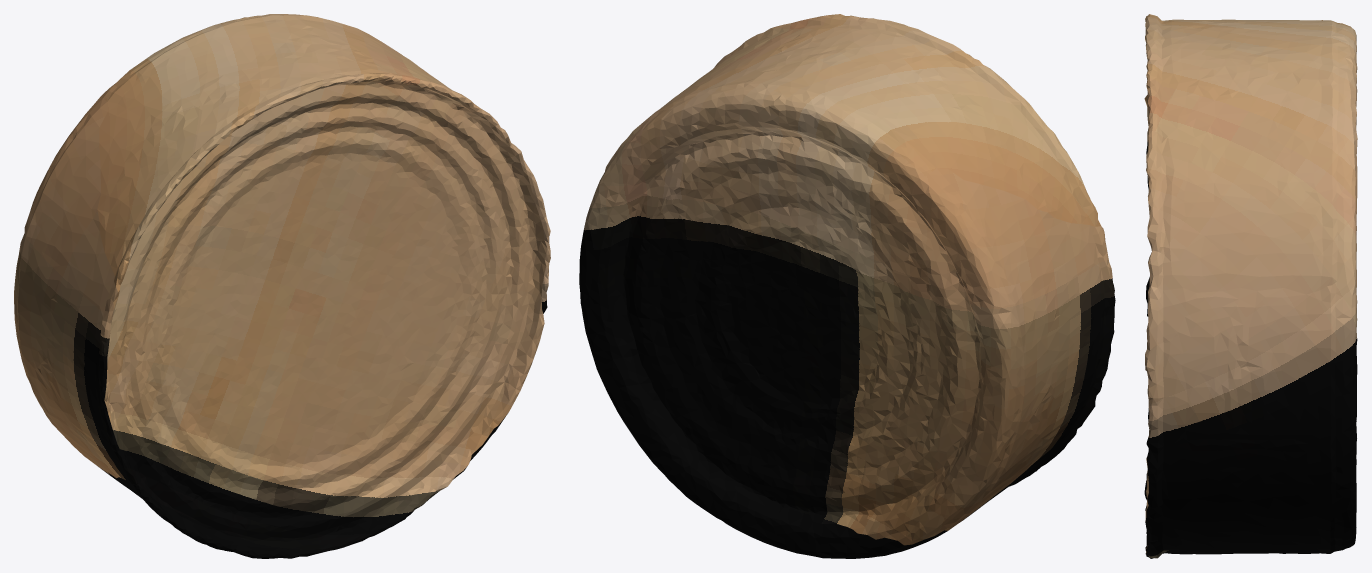
3 views of the same model, side by side, from view 1: azimuth 30°, elevation 25°; view 2: azimuth 150°, elevation 25°; view 3: azimuth 270°, elevation 25° (orthographic). The views are drawn at different scales.
Size of the model in its own units: 0.0855 by 0.0853 by 0.0335.
